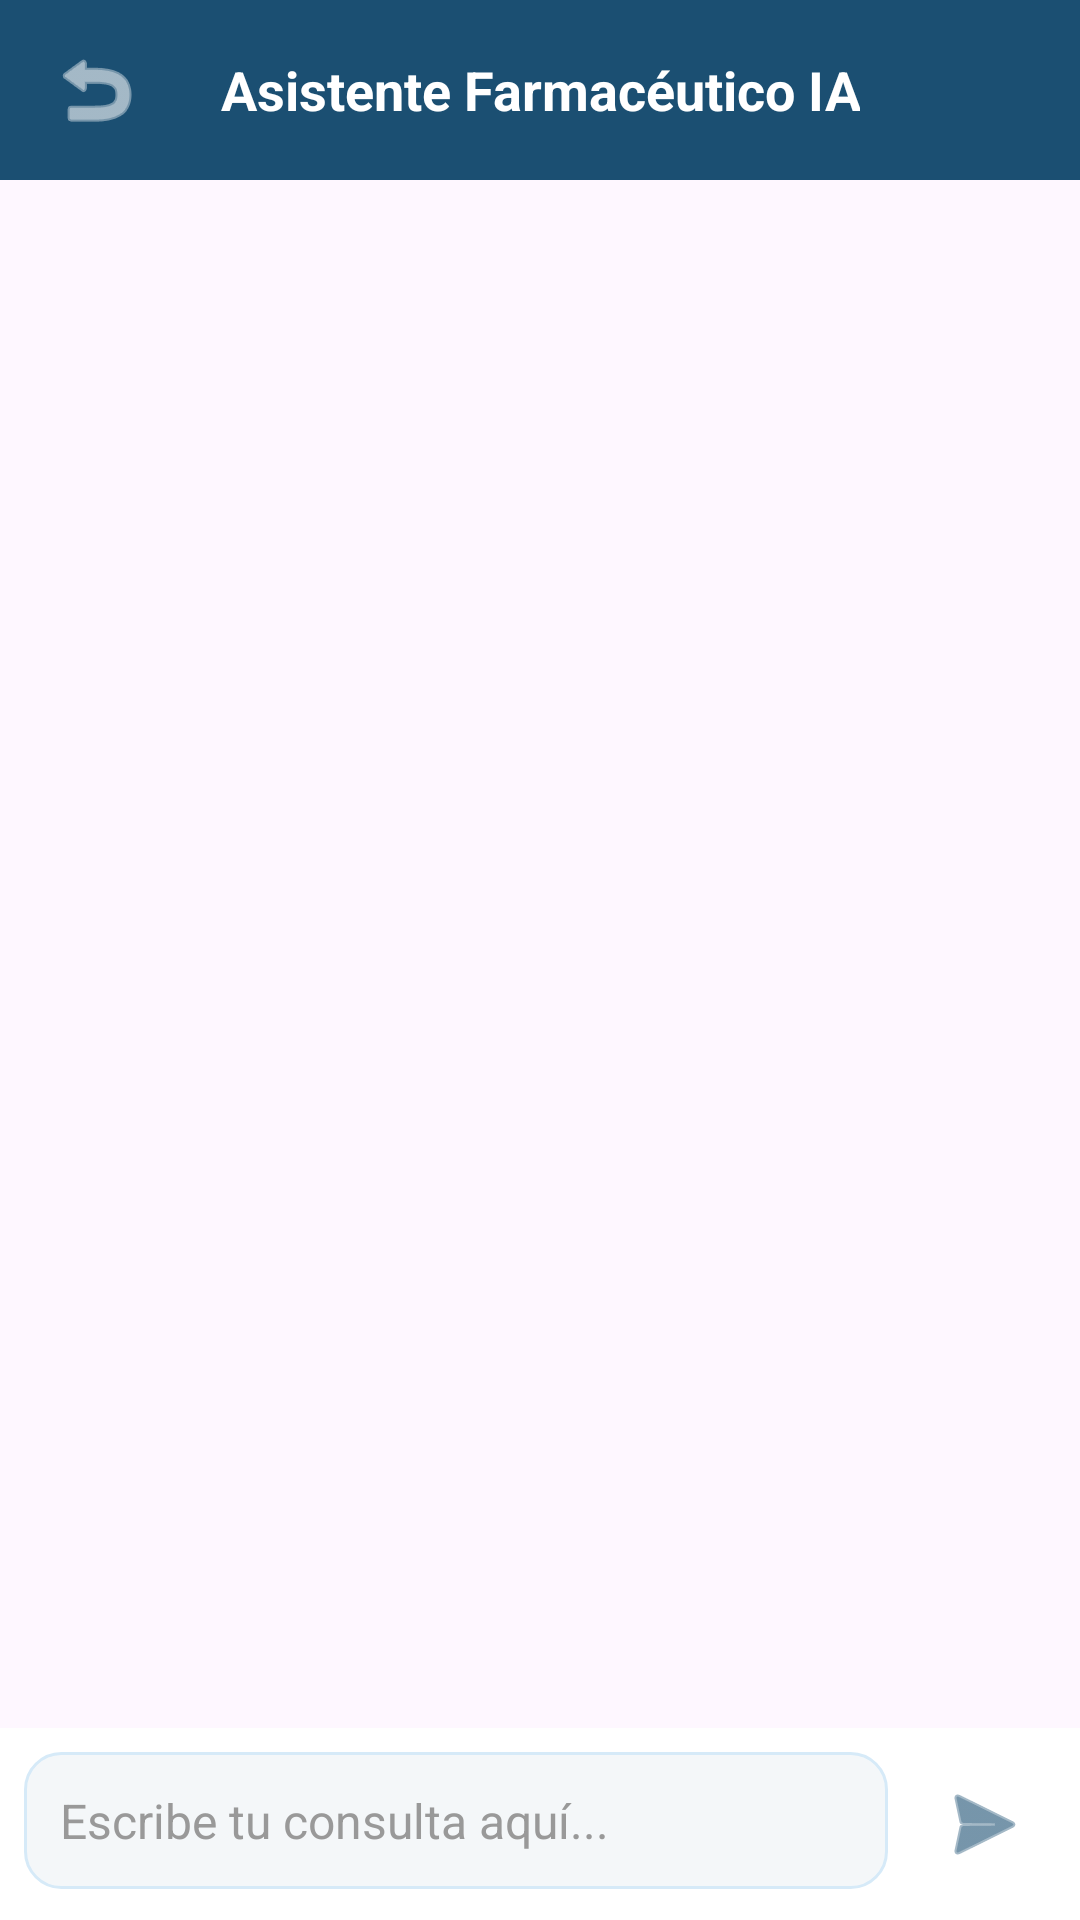

Icons on this 1080×1920 Android screen, each with its box as (x1, y1, x2, y2):
Enviar: (954, 1794, 1016, 1855)
Regresar: (63, 59, 132, 122)
